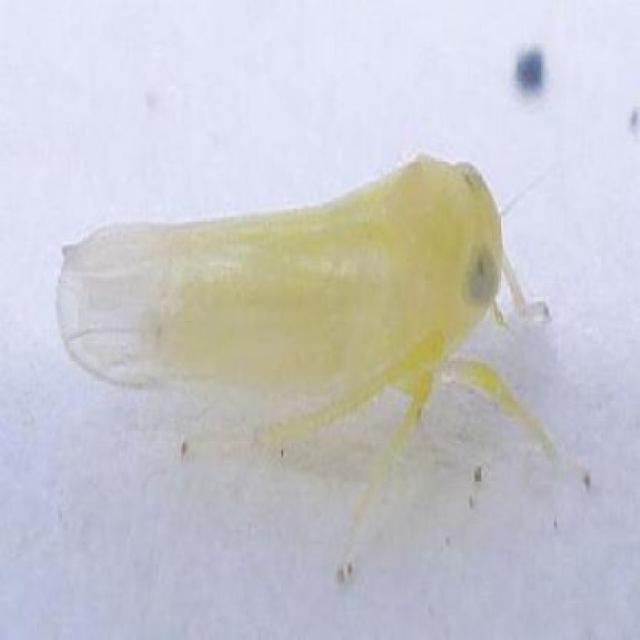green-leafhopper: (60, 160, 502, 426)
